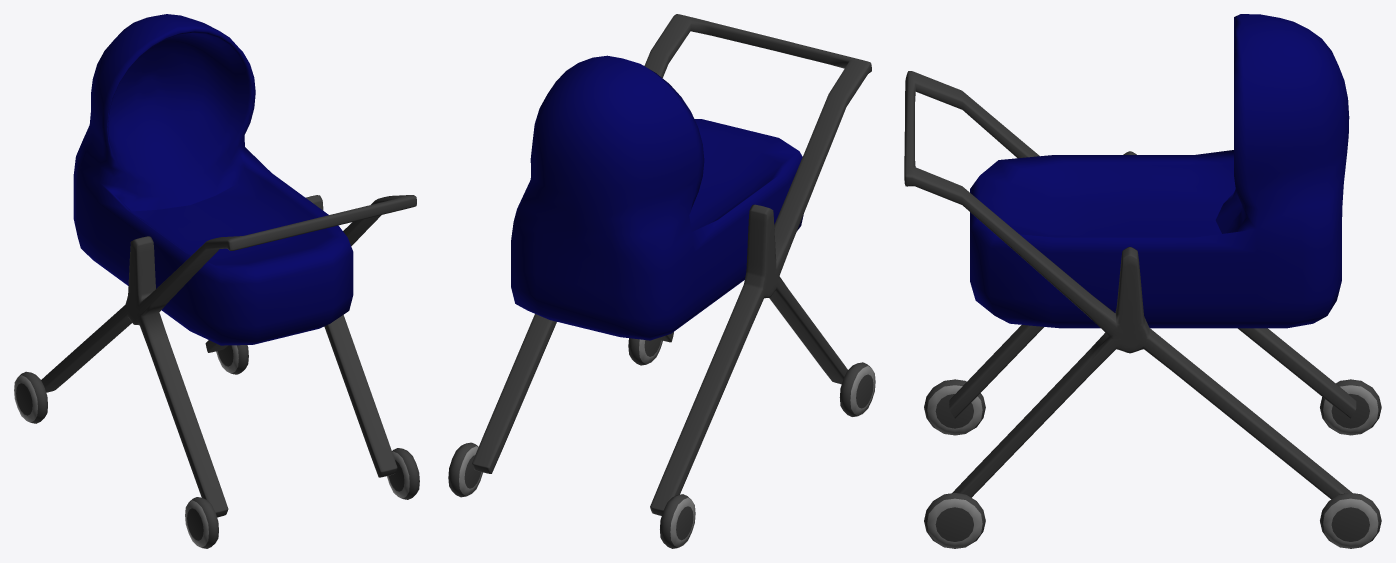
Rendered from Proto_Stroller_01.fbx.
The picture shows the model from 3 angles, left to right: view 1: azimuth 30°, elevation 25°; view 2: azimuth 150°, elevation 25°; view 3: azimuth 270°, elevation 25°; orthographic projection. The views are drawn at different scales.
Parts seen in each view (by area): view 1: Proto_Stroller_01; view 2: Proto_Stroller_01; view 3: Proto_Stroller_01.
Part boxes in pixels (x1,y1,x2,y2): Proto_Stroller_01: [14, 14, 419, 548]; Proto_Stroller_01: [448, 14, 875, 548]; Proto_Stroller_01: [904, 14, 1381, 548].
Bounding box in the file's own units: 1.74 × 3.15 × 2.91.
